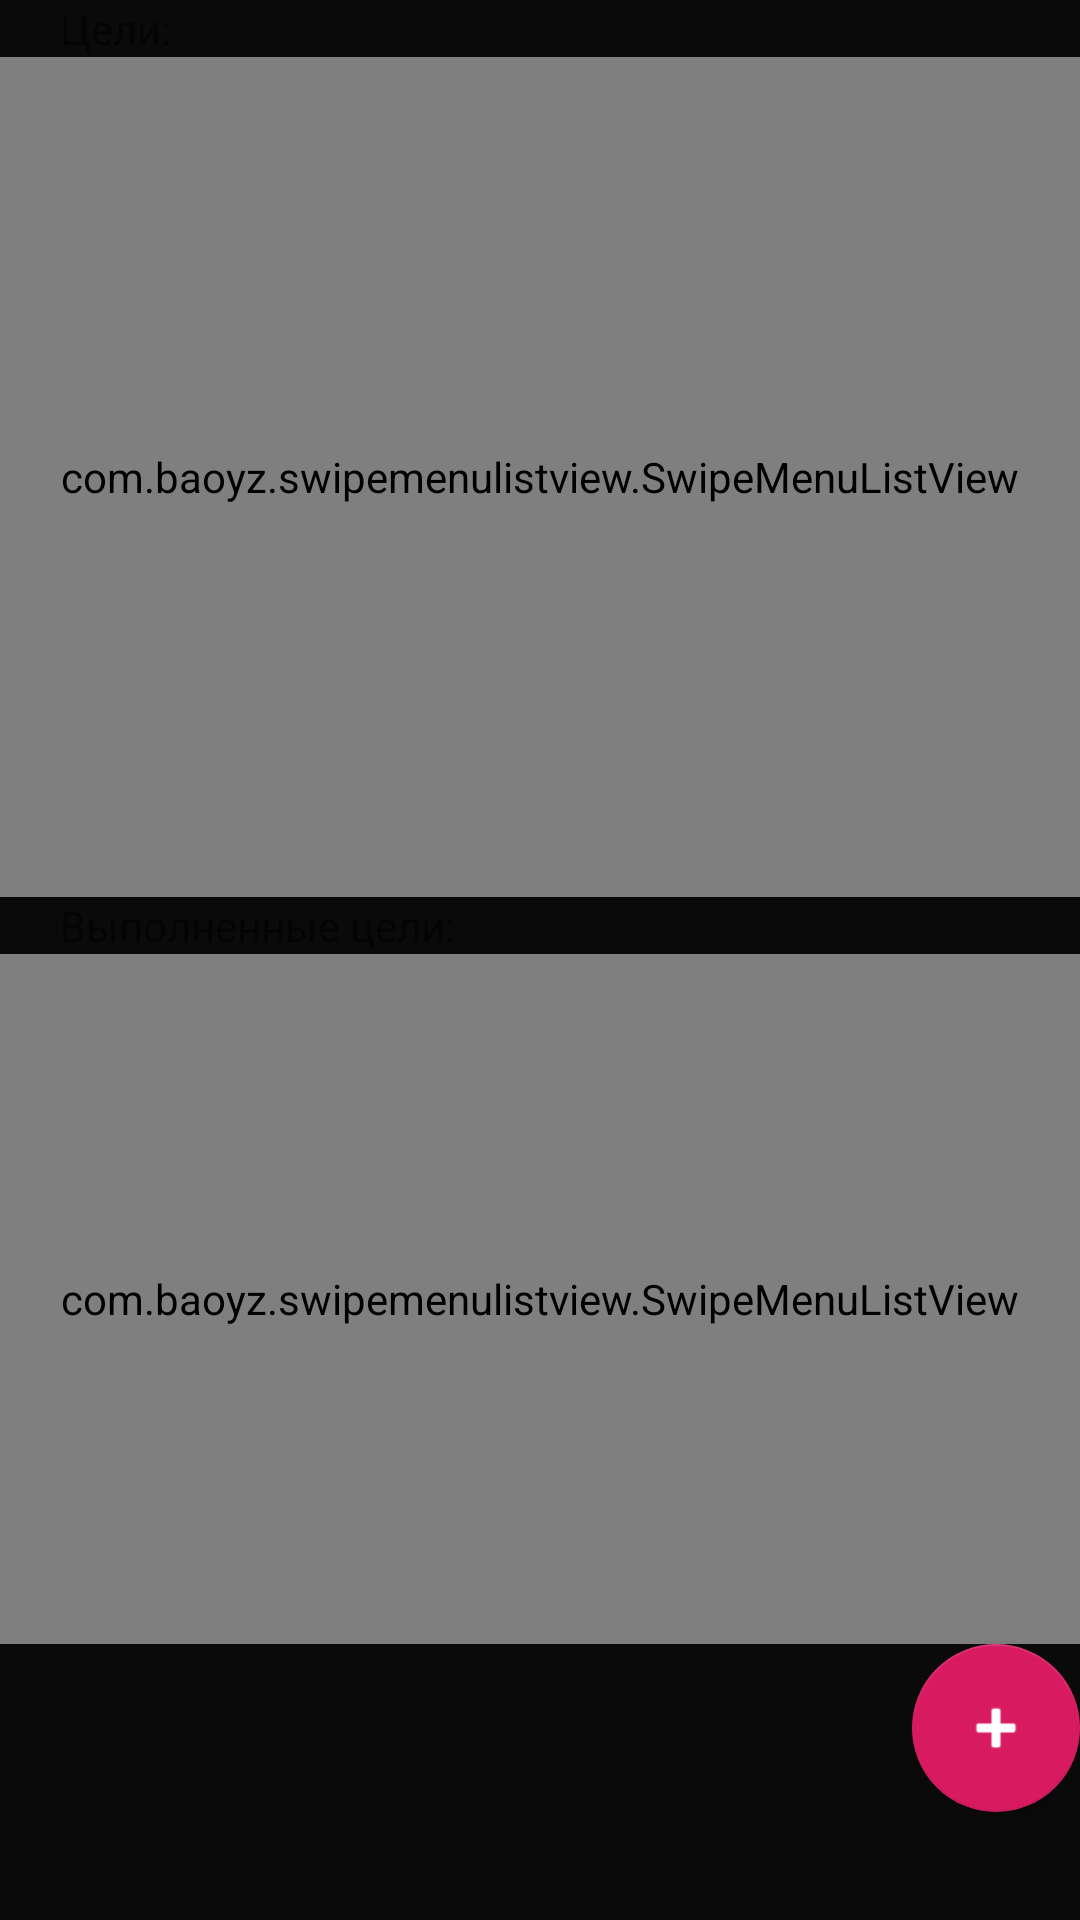

Icons on this 1080w x 1920h Android screen, each with the point to tap as point (x, y):
add: point (996, 1728)
